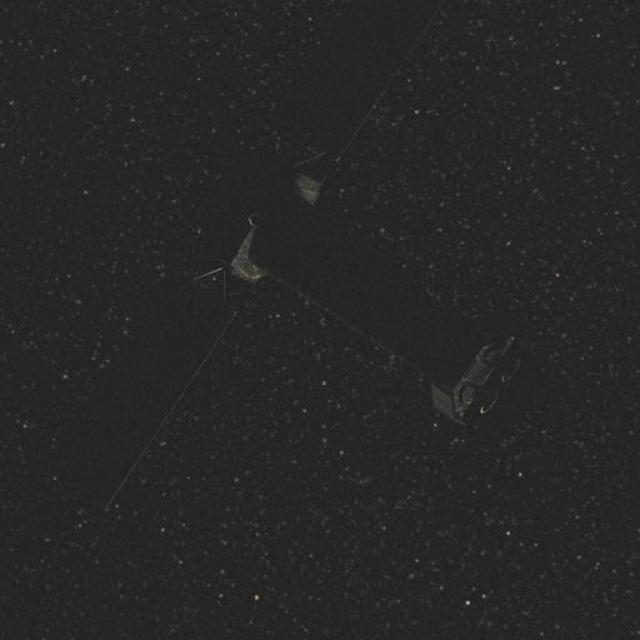xmm_newton: (172, 131, 519, 438)
